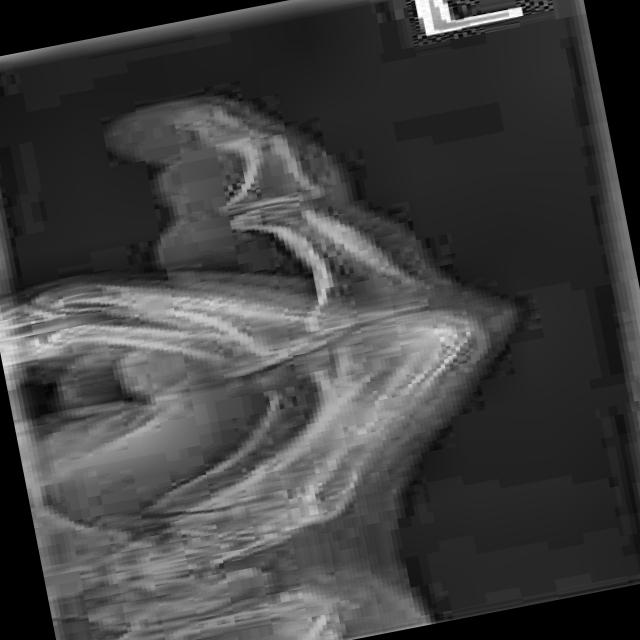fingers positive: (192, 127, 310, 157)
